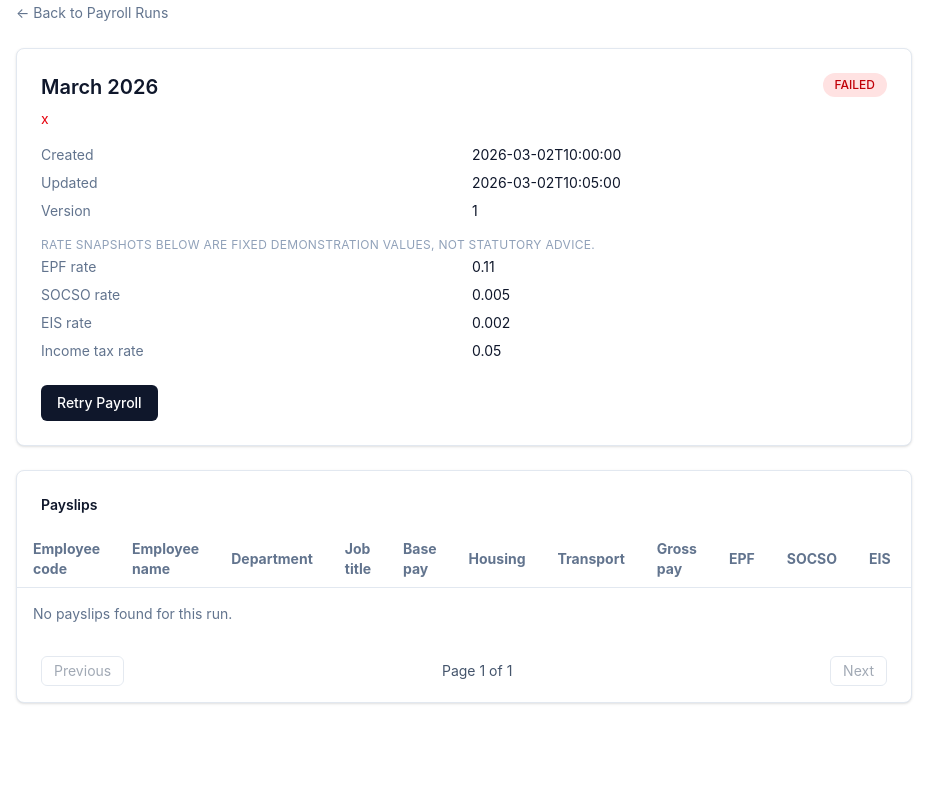
Scenario: PayrollRunDetailPage › retry › re-fetches the run and payslips after a successful retry
What coordinates should you click on to do the following:
click the button "Retry Payroll"
I would click on:
 (99, 403)
Its box is [41,385,158,421].
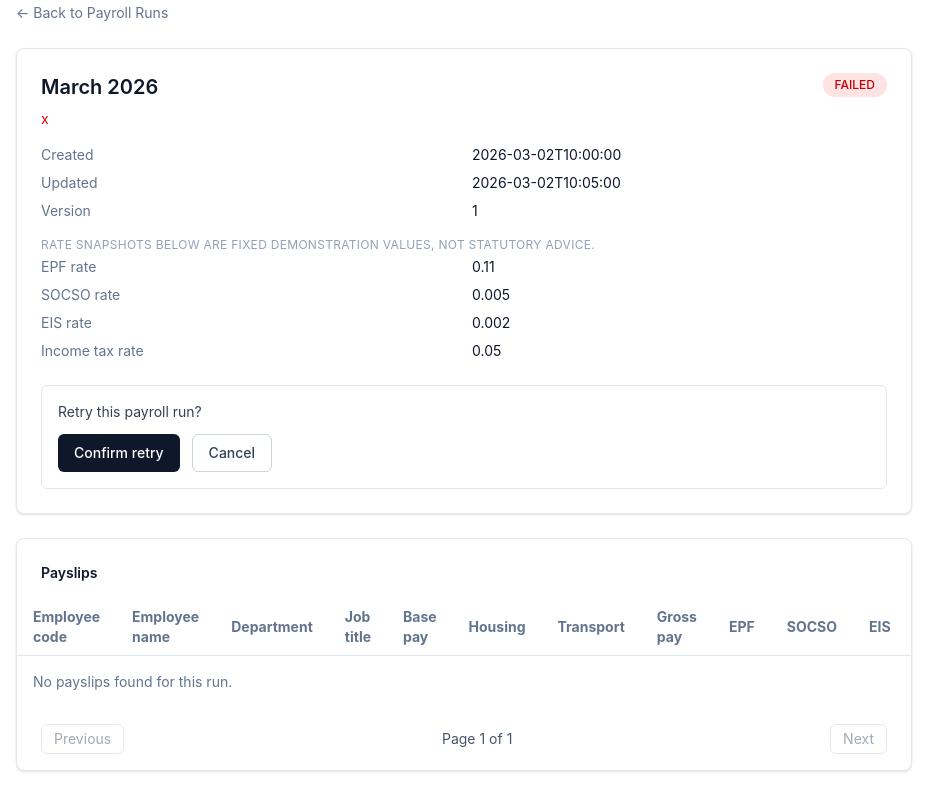
What coordinates should you click on to do the following:
click the button "Confirm retry"
I would click on:
 (119, 453)
Its box is [58,434,180,472].
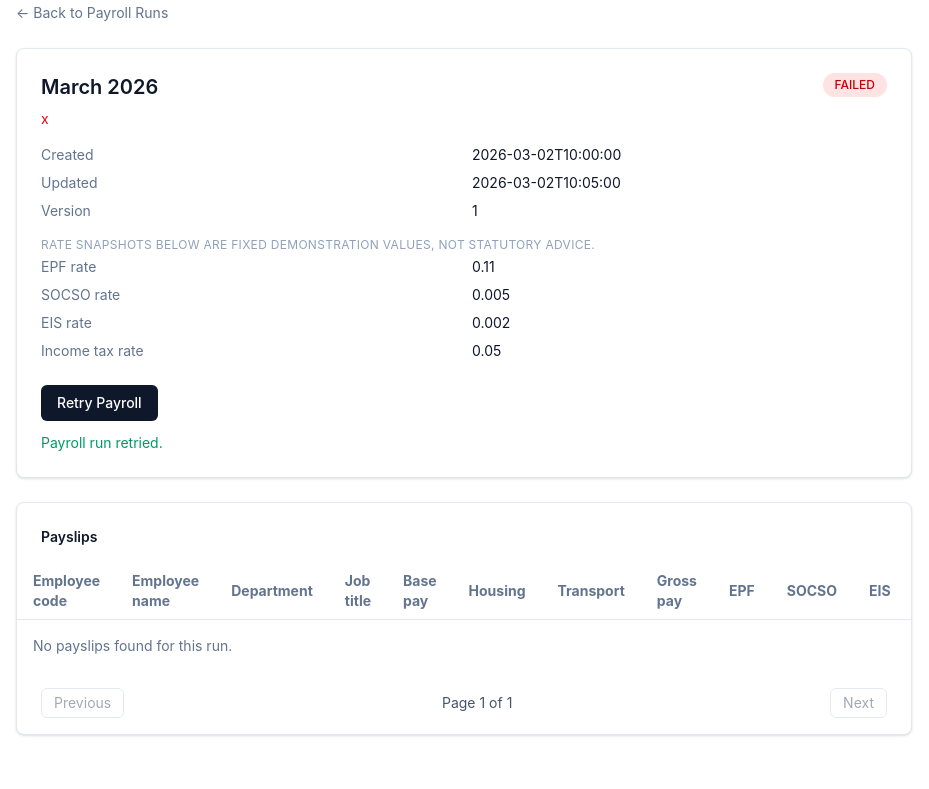
Expected: the text "Payroll run retried." is shown, [41,434,163,451]
